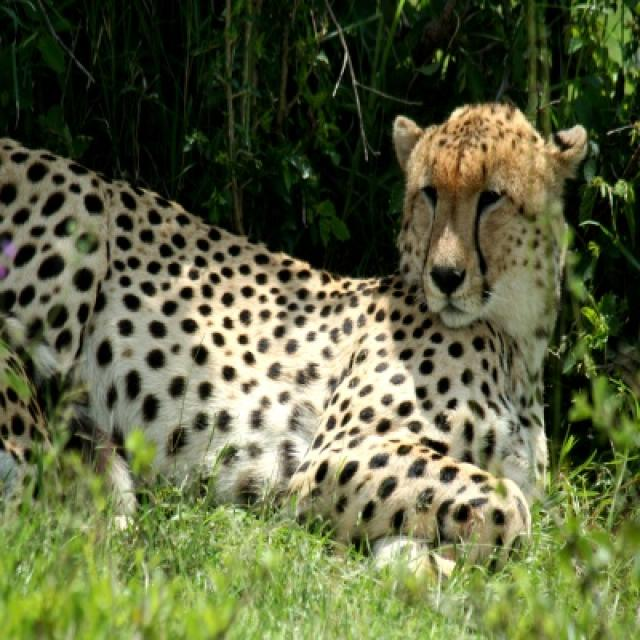Cheetah: (0, 102, 592, 563)
